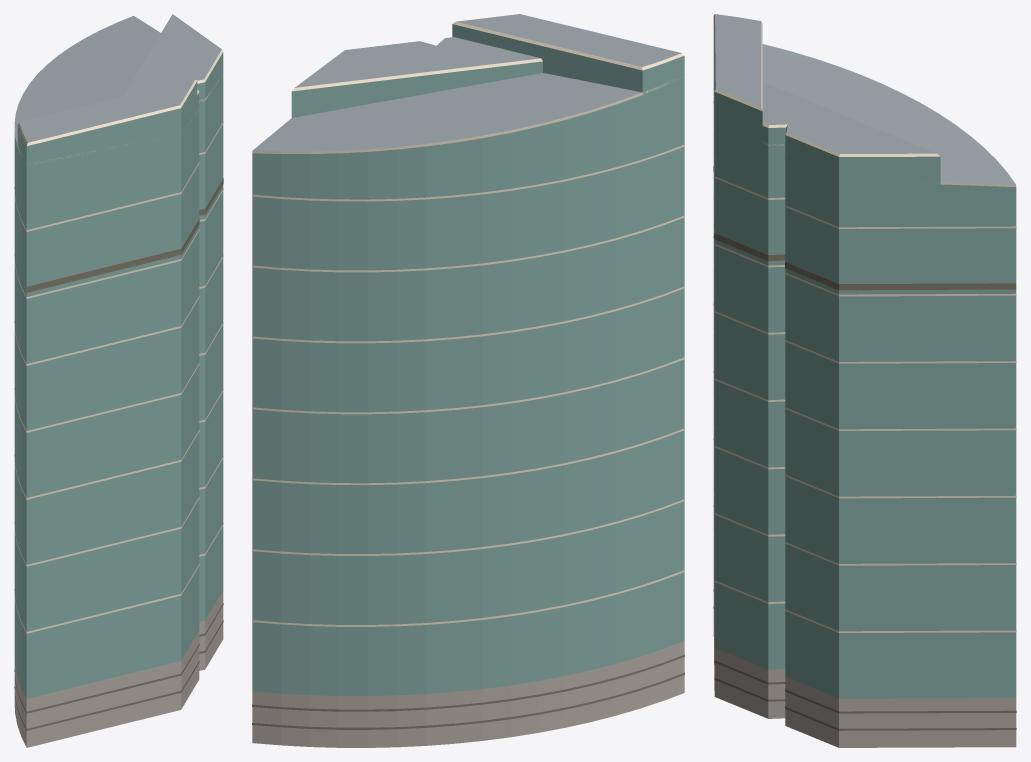
The picture shows the model from 3 angles, left to right: view 1: azimuth 30°, elevation 25°; view 2: azimuth 150°, elevation 25°; view 3: azimuth 270°, elevation 25°; orthographic projection. The views are drawn at different scales.
Visible parts, largest first — view 1: 333-wacker-drive; view 2: 333-wacker-drive; view 3: 333-wacker-drive.
Boxes of the visible parts, <box> form: 333-wacker-drive: <box>14,14,223,747</box>; 333-wacker-drive: <box>252,14,684,747</box>; 333-wacker-drive: <box>713,14,1016,747</box>.
Size of the model in its own units: 66.53 by 148 by 66.93.
